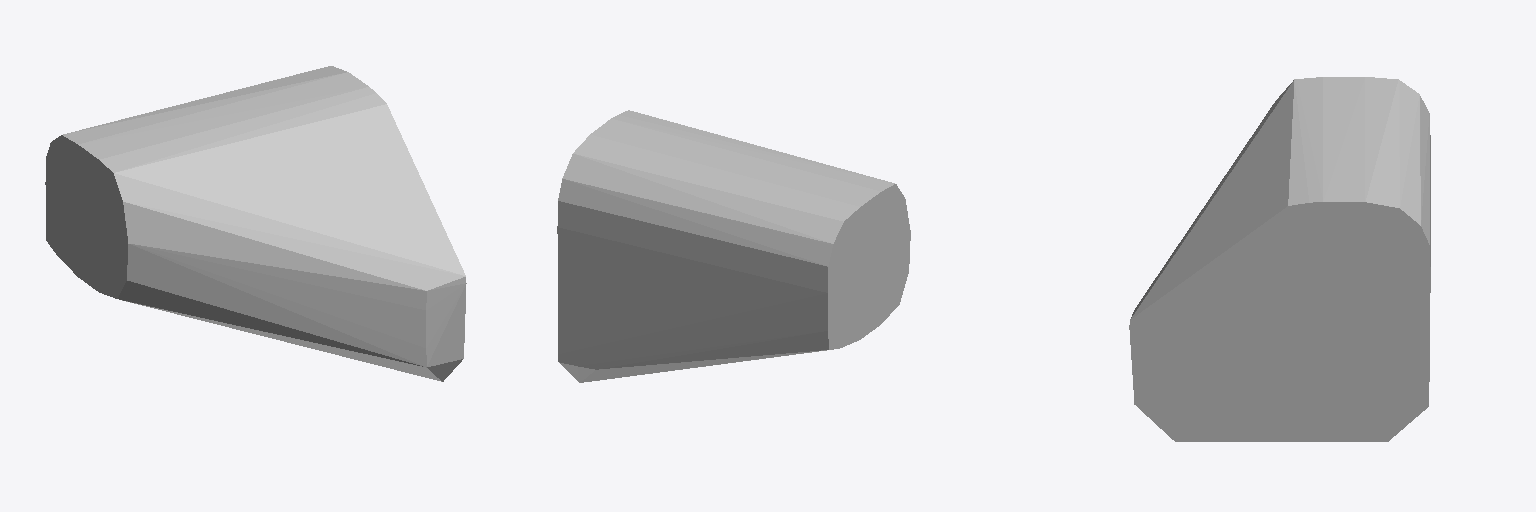
Rendered from Cart_outer_skeleton_collision_21.obj.
3 renders of one model, left to right at view 1: azimuth 30°, elevation 25°; view 2: azimuth 150°, elevation 25°; view 3: azimuth 270°, elevation 25°, orthographic.
Bounding box in the file's own units: 0.0622 × 0.053 × 0.06.